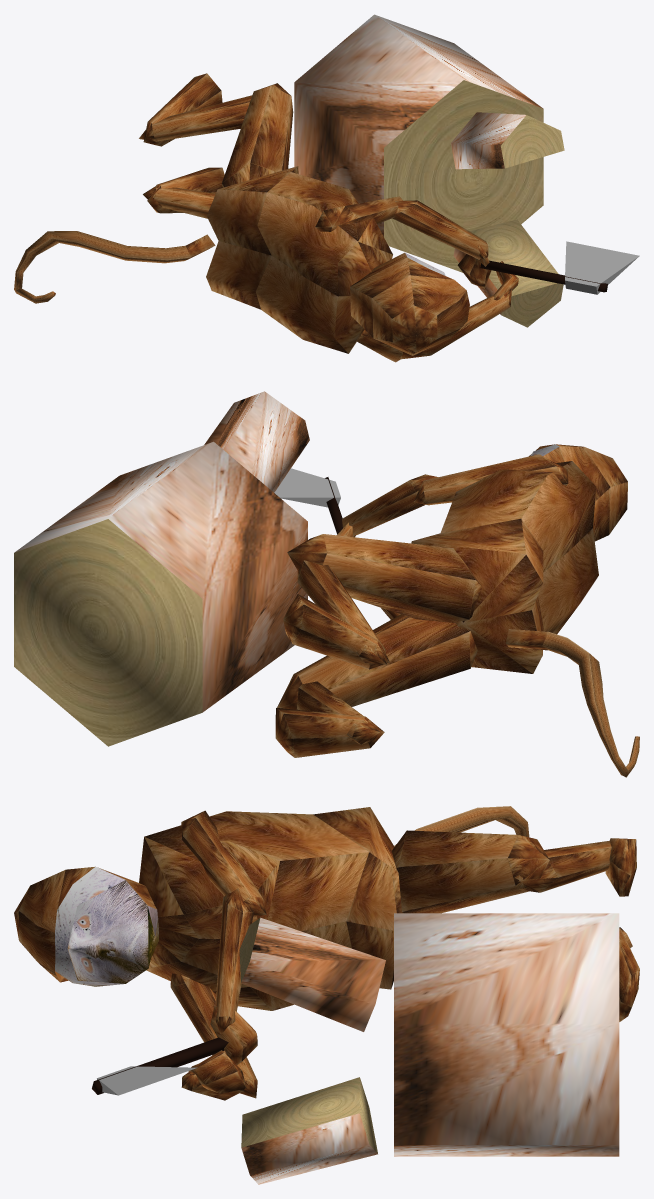
File: monkey_000504.obj
3 views of the same model, one above another, from view 1: azimuth 30°, elevation 25°; view 2: azimuth 150°, elevation 25°; view 3: azimuth 270°, elevation 25° (orthographic). The views are drawn at different scales.
Parts seen in each view (by area): view 1: table_Cylinder.015, Cylinder_Cylinder.001, head.002_Sphere.002, log2_Cylinder.016, log_Cylinder.017, Cylinder.001_Cylinder.002, Cylinder.013_Cylinder, axe_Cylinder.014, Cylinder.004_Cylinder.005, Cylinder.009_Cylinder.011, Cylinder.006_Cylinder.007, Cylinder.008_Cylinder.009 (+5 smaller); view 2: table_Cylinder.015, Cylinder_Cylinder.001, Cylinder.001_Cylinder.002, Cylinder.002_Cylinder.003, log2_Cylinder.016, Cylinder.006_Cylinder.007, Cylinder.013_Cylinder, Cylinder.005_Cylinder.006, head.002_Sphere.002, Cylinder.004_Cylinder.005, Cylinder.008_Cylinder.009, Cylinder.009_Cylinder.011 (+2 smaller); view 3: table_Cylinder.015, Cylinder_Cylinder.001, head.002_Sphere.002, Cylinder.001_Cylinder.002, log2_Cylinder.016, log_Cylinder.017, Cylinder.008_Cylinder.009, Cylinder.009_Cylinder.011, axe_Cylinder.014, Cylinder.004_Cylinder.005, Cylinder.011_Cylinder.013, Cylinder.013_Cylinder (+5 smaller).
Part boxes in pixels (bbox=[...]): table_Cylinder.015: bbox=[294, 14, 543, 272]; Cylinder_Cylinder.001: bbox=[206, 166, 392, 353]; head.002_Sphere.002: bbox=[350, 252, 469, 355]; log2_Cylinder.016: bbox=[451, 112, 564, 169]; log_Cylinder.017: bbox=[453, 219, 563, 327]; Cylinder.001_Cylinder.002: bbox=[222, 83, 293, 187]; Cylinder.013_Cylinder: bbox=[14, 231, 215, 303]; axe_Cylinder.014: bbox=[480, 241, 639, 294]; Cylinder.004_Cylinder.005: bbox=[139, 95, 252, 141]; Cylinder.009_Cylinder.011: bbox=[392, 200, 488, 259]; Cylinder.006_Cylinder.007: bbox=[143, 73, 222, 146]; Cylinder.008_Cylinder.009: bbox=[315, 196, 403, 231]; table_Cylinder.015: bbox=[14, 441, 307, 746]; Cylinder_Cylinder.001: bbox=[411, 461, 598, 673]; Cylinder.001_Cylinder.002: bbox=[287, 534, 482, 622]; Cylinder.002_Cylinder.003: bbox=[277, 614, 477, 709]; log2_Cylinder.016: bbox=[204, 391, 309, 492]; Cylinder.006_Cylinder.007: bbox=[283, 594, 389, 669]; Cylinder.013_Cylinder: bbox=[505, 629, 639, 777]; Cylinder.005_Cylinder.006: bbox=[275, 708, 384, 757]; head.002_Sphere.002: bbox=[529, 444, 627, 541]; Cylinder.004_Cylinder.005: bbox=[297, 560, 387, 664]; Cylinder.008_Cylinder.009: bbox=[414, 454, 568, 505]; Cylinder.009_Cylinder.011: bbox=[342, 474, 438, 535]; table_Cylinder.015: bbox=[394, 913, 619, 1156]; Cylinder_Cylinder.001: bbox=[139, 807, 402, 1010]; head.002_Sphere.002: bbox=[14, 866, 158, 986]; Cylinder.001_Cylinder.002: bbox=[391, 830, 549, 913]; log2_Cylinder.016: bbox=[239, 917, 385, 1031]; log_Cylinder.017: bbox=[241, 1077, 377, 1184]; Cylinder.008_Cylinder.009: bbox=[181, 810, 266, 916]; Cylinder.009_Cylinder.011: bbox=[215, 888, 253, 1033]; axe_Cylinder.014: bbox=[92, 1037, 228, 1095]; Cylinder.004_Cylinder.005: bbox=[514, 841, 611, 892]; Cylinder.011_Cylinder.013: bbox=[170, 973, 257, 1098]; Cylinder.013_Cylinder: bbox=[394, 806, 529, 846].
Size of the model in its own units: 2.15 by 0.9086 by 1.93.
